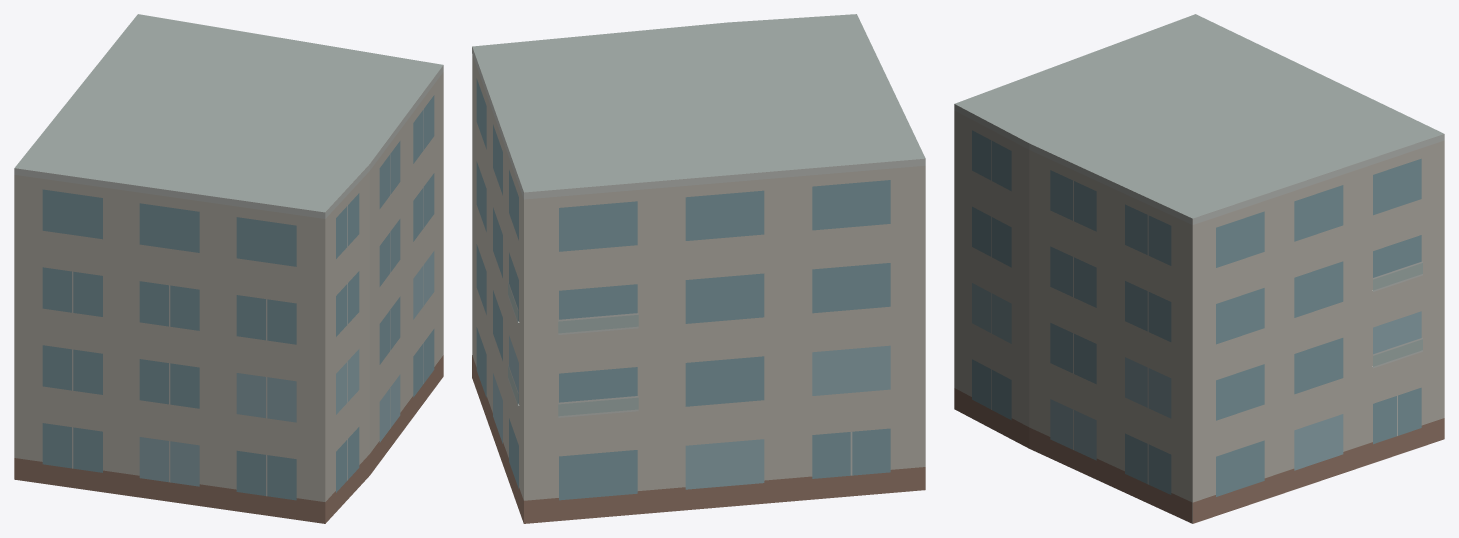
File: survey-upis-32629011.glb
3 views of the same model, side by side, from view 1: azimuth 30°, elevation 25°; view 2: azimuth 150°, elevation 25°; view 3: azimuth 270°, elevation 25° (orthographic). The views are drawn at different scales.
Visible parts, largest first — view 1: survey-upis-32629011.tmp; view 2: survey-upis-32629011.tmp; view 3: survey-upis-32629011.tmp.
Part boxes in pixels (x1=…): survey-upis-32629011.tmp: x1=14, y1=14, x2=443, y2=523; survey-upis-32629011.tmp: x1=472, y1=14, x2=925, y2=523; survey-upis-32629011.tmp: x1=954, y1=14, x2=1444, y2=523.
Size of the model in its own units: 16.39 by 11.4 by 16.6.
